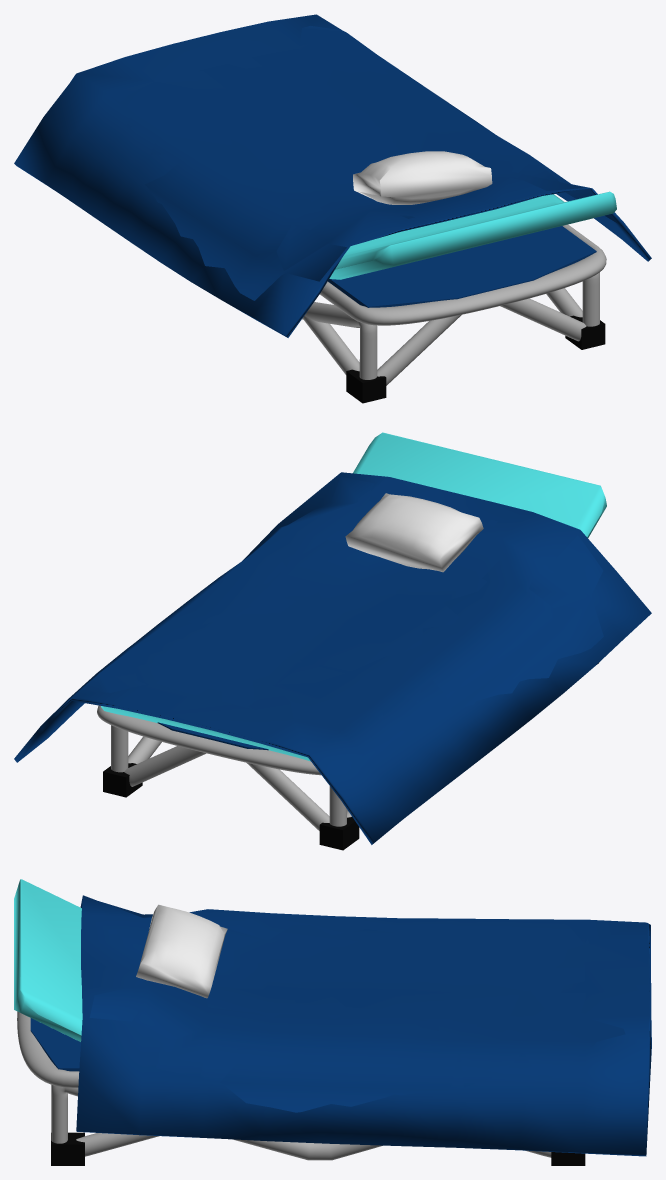
The model's file is bed.fbx.
3 views of the same model, one above another, from view 1: azimuth 30°, elevation 25°; view 2: azimuth 150°, elevation 25°; view 3: azimuth 270°, elevation 25° (orthographic). The views are drawn at different scales.
Parts seen in each view (by area): view 1: Cube.002, NurbsPath.002, Cube.001, Cube, Cube.004, Cube.003; view 2: Cube.002, Cube, NurbsPath.002, Cube.004, Cube.003; view 3: Cube.002, Cube, Cube.004, NurbsPath.002, Cube.001, Cube.003.
Boxes of the visible parts, bbox=[...] form: Cube.002: bbox=[14, 14, 651, 337]; NurbsPath.002: bbox=[302, 224, 606, 385]; Cube.001: bbox=[328, 226, 596, 307]; Cube: bbox=[329, 191, 616, 279]; Cube.004: bbox=[353, 151, 492, 204]; Cube.003: bbox=[346, 315, 605, 403]; Cube.002: bbox=[14, 472, 651, 844]; Cube: bbox=[101, 432, 606, 761]; NurbsPath.002: bbox=[97, 705, 351, 830]; Cube.004: bbox=[345, 493, 483, 572]; Cube.003: bbox=[103, 662, 599, 850]; Cube.002: bbox=[76, 895, 651, 1156]; Cube: bbox=[14, 879, 82, 1041]; Cube.004: bbox=[136, 904, 227, 998]; NurbsPath.002: bbox=[17, 1011, 551, 1160]; Cube.001: bbox=[30, 1018, 80, 1071]; Cube.003: bbox=[51, 1132, 585, 1165].
Size of the model in its own units: 158 by 69.96 by 224.
